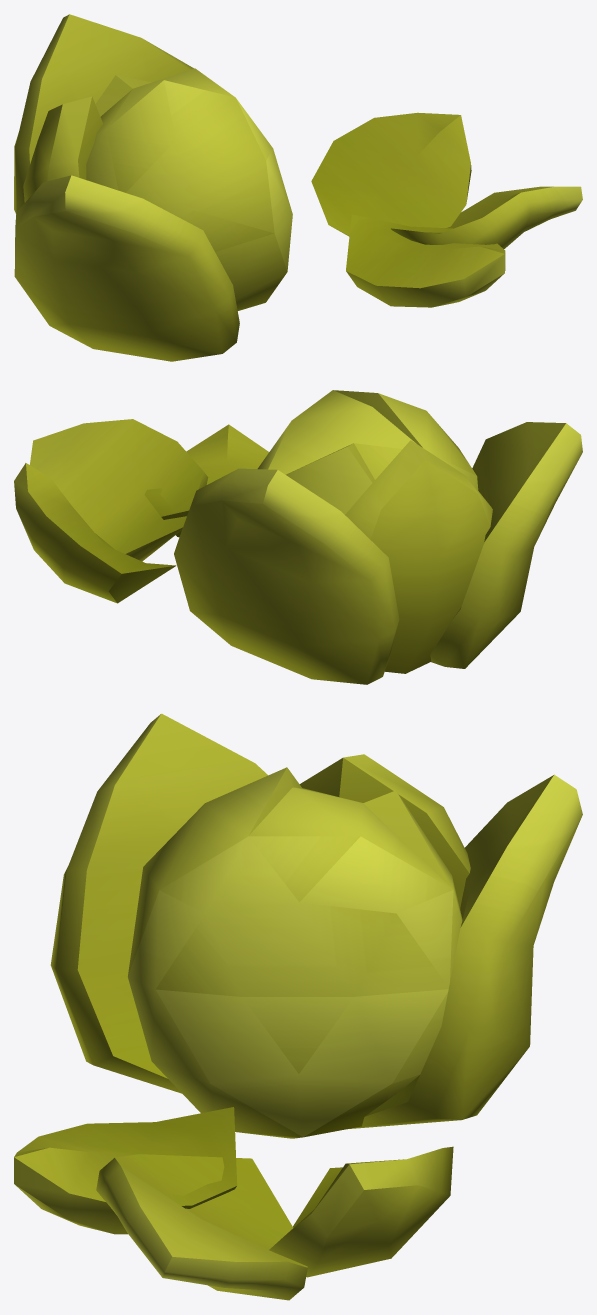
File: kaykit-restaurant-bits-food-ingredient-lettuce-chopped.glb
3 views of the same model, one above another, from view 1: azimuth 30°, elevation 25°; view 2: azimuth 150°, elevation 25°; view 3: azimuth 270°, elevation 25° (orthographic). The views are drawn at different scales.
Parts seen in each view (by area): view 1: food_ingredient_lettuce_chopped; view 2: food_ingredient_lettuce_chopped; view 3: food_ingredient_lettuce_chopped.
Boxes of the visible parts, x1,y1,x2,y2 form: food_ingredient_lettuce_chopped: (14, 14, 582, 361); food_ingredient_lettuce_chopped: (14, 390, 582, 684); food_ingredient_lettuce_chopped: (14, 713, 582, 1300).
Size of the model in its own units: 1.8 by 0.8087 by 1.21.
1 material, 1 textured.
